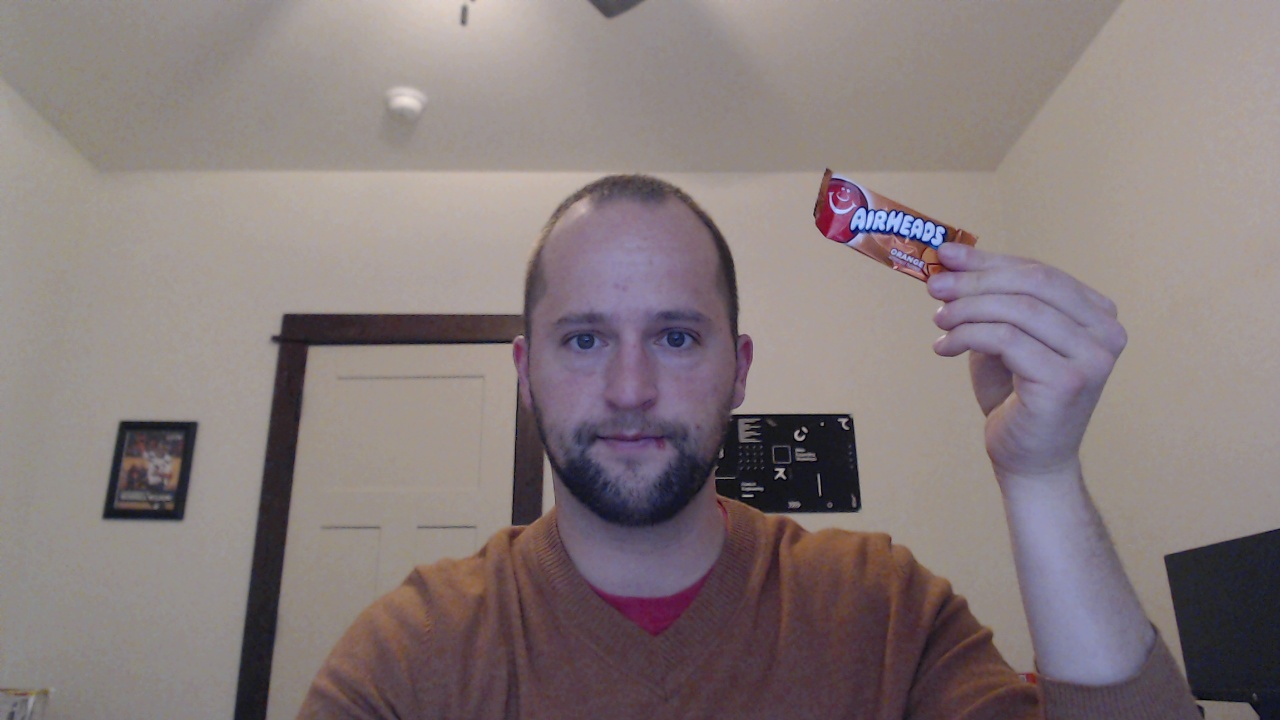airheads: (812, 153, 998, 306)
